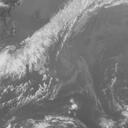cyclone: (47, 48, 93, 86)
